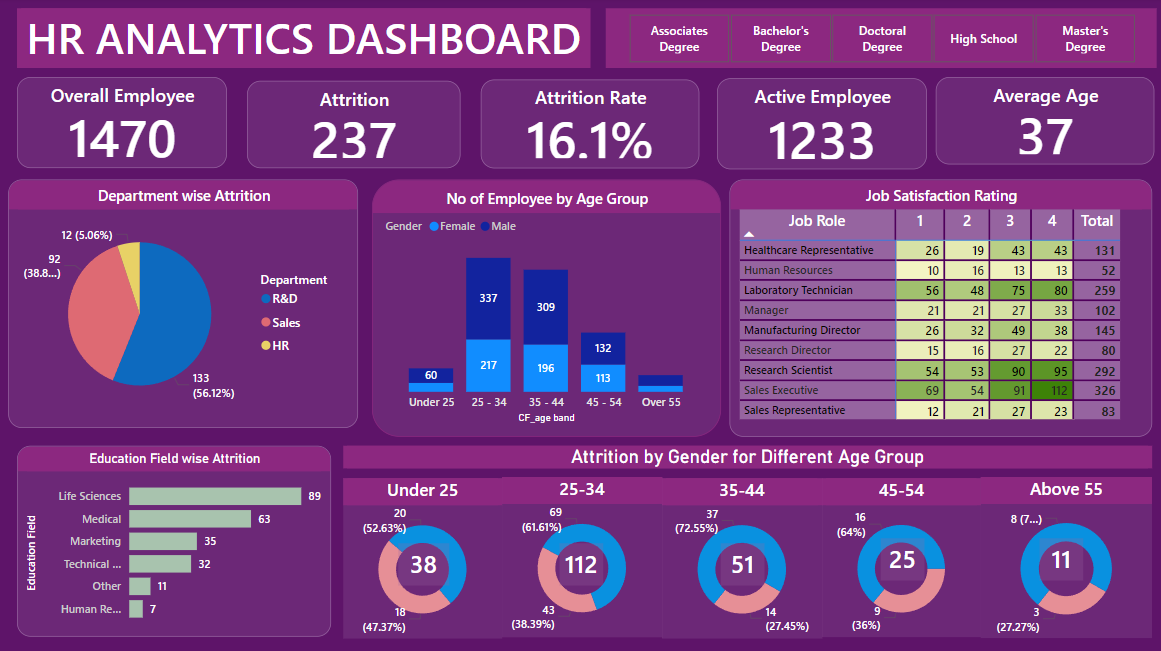

The dashboard page shown, as its layout file describes it:
{"tool":"powerbi","page":{"name":"Page 1","canvas":[1280,720],"ordinal":0},"visuals":[{"type":"card","title":"Overall Employee","fields":{"Values":["CountNonNull(HR Data xlsx - HR data.Employee Count)"]},"box":[22,87.8,230.5,100.2],"z":0},{"type":"card","title":"Average Age","fields":{"Values":["Avg(HR Data xlsx - HR data.Age)"]},"box":[1030.5,87.8,240.1,96.1],"z":1000},{"type":"card","title":"Attrition Rate","fields":{"Values":["HR Data xlsx - HR data.Attrition Rate"]},"box":[531,90.6,240.1,97.4],"z":2000},{"type":"card","title":"Attrition ","fields":{"Values":["Sum(HR Data xlsx - HR data.Attrition Count)"]},"box":[274.4,91.9,234.6,96.1],"z":3000},{"type":"card","title":"Active Employee","fields":{"Values":["HR Data xlsx - HR data.Active Employee"]},"box":[790.4,89.2,230.5,100.2],"z":4000},{"type":"pieChart","title":"Department wise Attrition","fields":{"Category":["HR Data xlsx - HR data.Department"],"Y":["Sum(HR Data xlsx - HR data.Attrition Count)"]},"box":[12.3,200.3,384.2,273.1],"z":5000},{"type":"columnChart","title":"No of Employee by Age Group","fields":{"Category":["HR Data xlsx - HR data.CF_age band"],"Y":["Sum(HR Data xlsx - HR data.Employee Count)"],"Series":["HR Data xlsx - HR data.Gender"]},"box":[411.7,200.3,382.8,282.7],"z":6000},{"type":"pivotTable","title":"Job Satisfaction Rating","fields":{"Rows":["HR Data xlsx - HR data.Job Role"],"Columns":["HR Data xlsx - HR data.Job Satisfaction"],"Values":["Sum(HR Data xlsx - HR data.Employee Count)"]},"box":[804.1,200.3,463.8,282.7],"z":7000},{"type":"barChart","title":"Education Field wise  Attrition","fields":{"Category":["HR Data xlsx - HR data.Education Field"],"Y":["Sum(HR Data xlsx - HR data.Attrition Count)"]},"box":[22,492.6,344.4,209.9],"z":8000},{"type":"donutChart","title":"45-54","fields":{"Category":["HR Data xlsx - HR data.Gender"],"Y":["Sum(HR Data xlsx - HR data.Attrition Count)"],"Series":["HR Data xlsx - HR data.CF_age band"]},"box":[905.7,528.3,174.3,174.3],"z":9000},{"type":"textbox","title":"Attrition by Gender for Different Age Group","box":[380.1,492.6,887.8,24.7],"z":10000},{"type":"donutChart","title":"35-44","fields":{"Category":["HR Data xlsx - HR data.Gender"],"Y":["Sum(HR Data xlsx - HR data.Attrition Count)"],"Series":["HR Data xlsx - HR data.CF_age band"]},"box":[730,528.3,175.6,175.6],"z":11000},{"type":"donutChart","title":"25-34","fields":{"Category":["HR Data xlsx - HR data.Gender"],"Y":["Sum(HR Data xlsx - HR data.Attrition Count)"],"Series":["HR Data xlsx - HR data.CF_age band"]},"box":[554.4,526.9,175.6,175.6],"z":12000},{"type":"donutChart","title":"Under 25","fields":{"Category":["HR Data xlsx - HR data.Gender"],"Y":["Sum(HR Data xlsx - HR data.Attrition Count)"],"Series":["HR Data xlsx - HR data.CF_age band"]},"box":[380.1,528.3,174.3,175.6],"z":13000},{"type":"donutChart","title":"Above 55","fields":{"Category":["HR Data xlsx - HR data.Gender"],"Y":["Sum(HR Data xlsx - HR data.Attrition Count)"],"Series":["HR Data xlsx - HR data.CF_age band"]},"box":[1079.9,526.9,188,177],"z":14000},{"type":"card","fields":{"Values":["Sum(HR Data xlsx - HR data.Attrition Count)"]},"box":[440,600,56,46],"z":15000},{"type":"card","fields":{"Values":["Sum(HR Data xlsx - HR data.Attrition Count)"]},"box":[618,600,48,46],"z":16000},{"type":"card","fields":{"Values":["Sum(HR Data xlsx - HR data.Attrition Count)"]},"box":[794,600,48,46],"z":17000},{"type":"card","fields":{"Values":["Sum(HR Data xlsx - HR data.Attrition Count)"]},"box":[970,594,48,46],"z":18000},{"type":"card","fields":{"Values":["Sum(HR Data xlsx - HR data.Attrition Count)"]},"box":[1144,594,48,46],"z":19000},{"type":"textbox","title":"HR ANALYTICS DASHBOARD ","box":[22,12.3,629.8,65.9],"z":20000},{"type":"slicer","fields":{"Values":["HR Data xlsx - HR data.Education"]},"box":[668.3,12.3,605.1,65.9],"z":21000}]}

Visuals, with their boxes in screenshot pixels (x1, y1, x2, y2), scaled from the page's 1280x720 canvas onto the 1161x651 screenshot:
"Overall Employee" card: locate(20, 79, 229, 170)
"Average Age" card: locate(935, 79, 1152, 166)
"Attrition Rate" card: locate(482, 82, 699, 170)
"Attrition " card: locate(249, 83, 462, 170)
"Active Employee" card: locate(717, 81, 926, 171)
"Department wise Attrition" pieChart: locate(11, 181, 360, 428)
"No of Employee by Age Group" columnChart: locate(373, 181, 721, 437)
"Job Satisfaction Rating" pivotTable: locate(729, 181, 1150, 437)
"Education Field wise  Attrition" barChart: locate(20, 445, 332, 635)
"45-54" donutChart: locate(821, 478, 980, 635)
"Attrition by Gender for Different Age Group" textbox: locate(345, 445, 1150, 468)
"35-44" donutChart: locate(662, 478, 821, 636)
"25-34" donutChart: locate(503, 476, 662, 635)
"Under 25" donutChart: locate(345, 478, 503, 636)
"Above 55" donutChart: locate(980, 476, 1150, 636)
card - Sum(HR Data xlsx - HR data.Attrition Count): locate(399, 542, 450, 584)
card - Sum(HR Data xlsx - HR data.Attrition Count): locate(561, 542, 604, 584)
card - Sum(HR Data xlsx - HR data.Attrition Count): locate(720, 542, 764, 584)
card - Sum(HR Data xlsx - HR data.Attrition Count): locate(880, 537, 923, 579)
card - Sum(HR Data xlsx - HR data.Attrition Count): locate(1038, 537, 1081, 579)
"HR ANALYTICS DASHBOARD " textbox: locate(20, 11, 591, 71)
slicer - HR Data xlsx - HR data.Education: locate(606, 11, 1155, 71)
